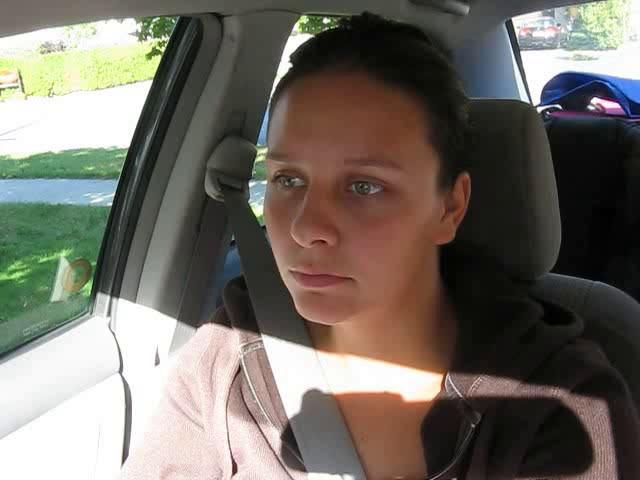no_yawn: (268, 255, 364, 305)
open_eyeL: (263, 165, 315, 200)
open_eyeR: (337, 169, 406, 208)
